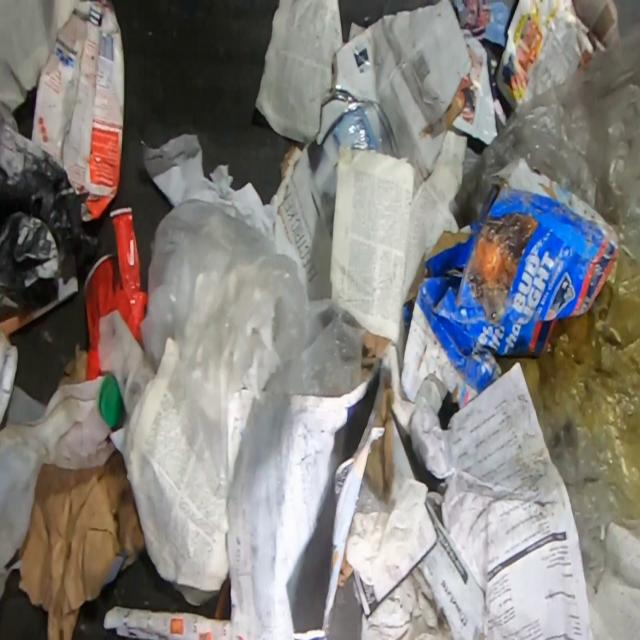cardboard: (276, 0, 472, 298), (400, 156, 619, 411), (31, 0, 126, 224)
rigid_plastic: (84, 207, 148, 383)
soft_plastic: (447, 22, 640, 608), (139, 196, 363, 489), (0, 112, 102, 323), (352, 470, 391, 518)
